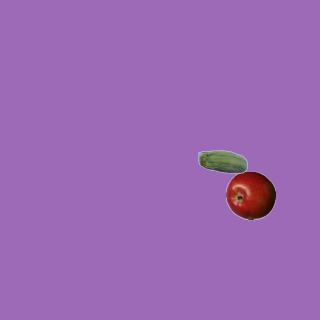Apple Braeburn: (225, 170, 275, 220)
Corn Husk: (197, 138, 247, 188)
